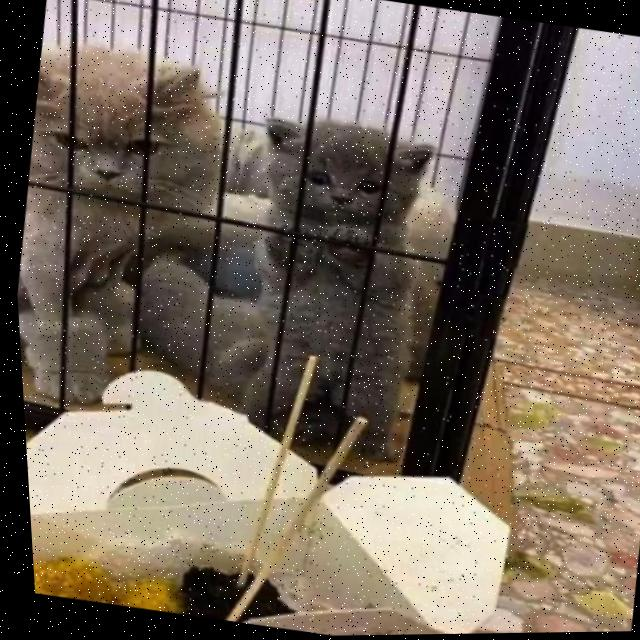Cats: (1, 8, 267, 411), (202, 89, 468, 466)
